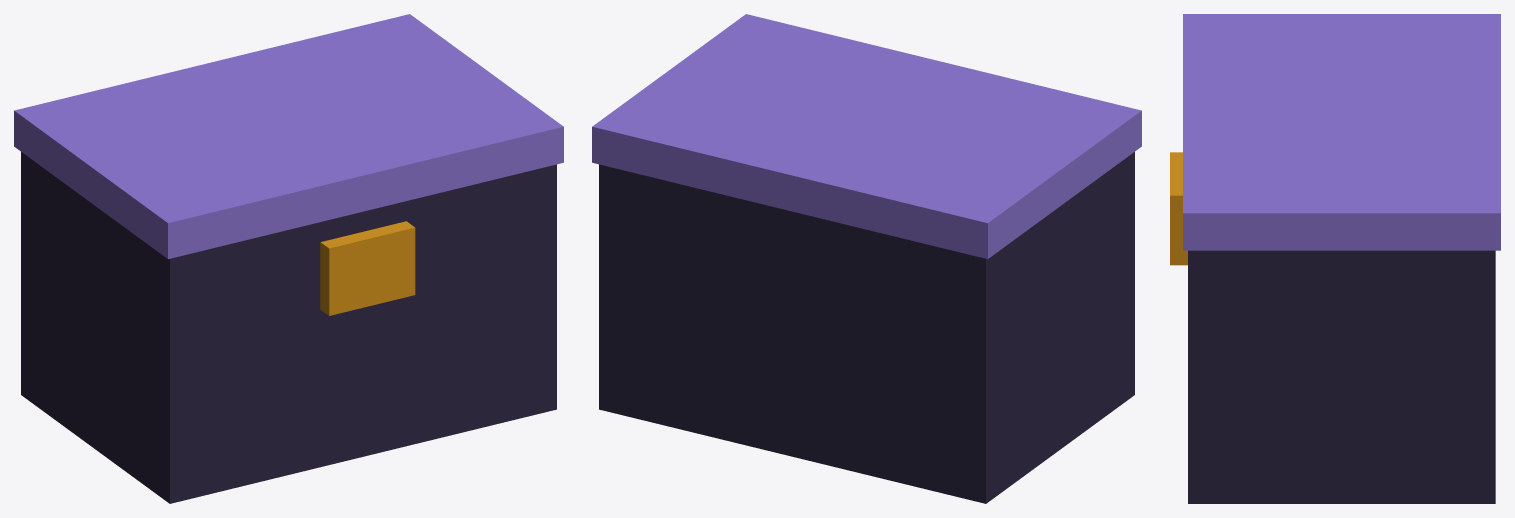
Rendered from death_loot_crate.glb.
3 views of the same model, side by side, from view 1: azimuth 30°, elevation 25°; view 2: azimuth 150°, elevation 25°; view 3: azimuth 270°, elevation 25° (orthographic). The views are drawn at different scales.
Parts seen in each view (by area): view 1: model; view 2: model; view 3: model.
Part boxes in pixels (bbox=[...]): model: bbox=[14, 14, 563, 503]; model: bbox=[592, 14, 1141, 503]; model: bbox=[1170, 14, 1500, 503].
Size of the model in its own units: 0.92 by 0.63 by 0.645.
